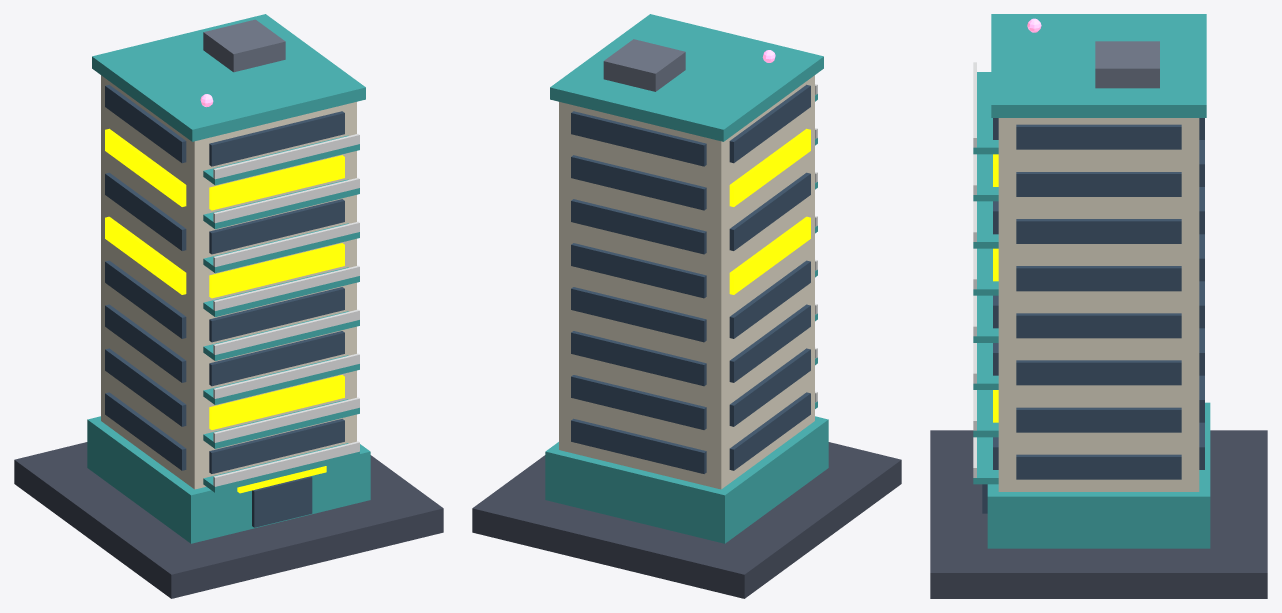
The model's file is apartment_tower.glb.
3 renders of one model, left to right at view 1: azimuth 30°, elevation 25°; view 2: azimuth 150°, elevation 25°; view 3: azimuth 270°, elevation 25°, orthographic. The views are drawn at different scales.
Visible parts, largest first — view 1: TowerBody, plinth, RoofCrown, Lobby, WindowFront_3, WindowFront_2, WindowFront_5, WindowFront_6, WindowFront_7, WindowFront_1, WindowFront_0, WindowFront_4 (+27 smaller); view 2: TowerBody, plinth, RoofCrown, Lobby, WindowBack_3, WindowBack_2, WindowBack_5, WindowBack_6, WindowBack_7, WindowBack_1, WindowBack_0, WindowBack_4 (+9 smaller); view 3: TowerBody, plinth, RoofCrown, Lobby, WindowEast_0, WindowEast_1, WindowEast_2, WindowEast_3, WindowEast_4, WindowEast_7, WindowEast_5, WindowEast_6 (+9 smaller).
Boxes of the visible parts, left/top/right/bottom form: TowerBody: left=101, top=75, right=356, bottom=489; plinth: left=14, top=442, right=443, bottom=598; RoofCrown: left=92, top=14, right=365, bottom=141; Lobby: left=87, top=416, right=370, bottom=543; WindowFront_3: left=209, top=287, right=344, bottom=342; WindowFront_2: left=209, top=331, right=344, bottom=386; WindowFront_5: left=209, top=199, right=344, bottom=254; WindowFront_6: left=209, top=155, right=344, bottom=210; WindowFront_7: left=209, top=111, right=344, bottom=166; WindowFront_1: left=209, top=375, right=344, bottom=429; WindowFront_0: left=209, top=418, right=344, bottom=473; WindowFront_4: left=209, top=243, right=344, bottom=298; TowerBody: left=559, top=75, right=814, bottom=489; plinth: left=472, top=442, right=901, bottom=598; RoofCrown: left=550, top=14, right=823, bottom=141; Lobby: left=545, top=416, right=828, bottom=543; WindowBack_3: left=571, top=287, right=706, bottom=342; WindowBack_2: left=571, top=331, right=706, bottom=386; WindowBack_5: left=571, top=199, right=706, bottom=254; WindowBack_6: left=571, top=155, right=706, bottom=210; WindowBack_7: left=571, top=111, right=706, bottom=166; WindowBack_1: left=571, top=375, right=706, bottom=429; WindowBack_0: left=571, top=418, right=706, bottom=473; WindowBack_4: left=571, top=243, right=706, bottom=298; TowerBody: left=998, top=118, right=1199, bottom=491; plinth: left=930, top=430, right=1267, bottom=598; RoofCrown: left=991, top=14, right=1206, bottom=117; Lobby: left=987, top=402, right=1210, bottom=548; WindowEast_0: left=1016, top=454, right=1181, bottom=479; WindowEast_1: left=1016, top=407, right=1181, bottom=432; WindowEast_2: left=1016, top=360, right=1181, bottom=385; WindowEast_3: left=1016, top=313, right=1181, bottom=338; WindowEast_4: left=1016, top=266, right=1181, bottom=291; WindowEast_7: left=1016, top=124, right=1181, bottom=149; WindowEast_5: left=1016, top=219, right=1181, bottom=243; WindowEast_6: left=1016, top=172, right=1181, bottom=196.
Size of the model in its own units: 0.94 by 1.5 by 0.94.
